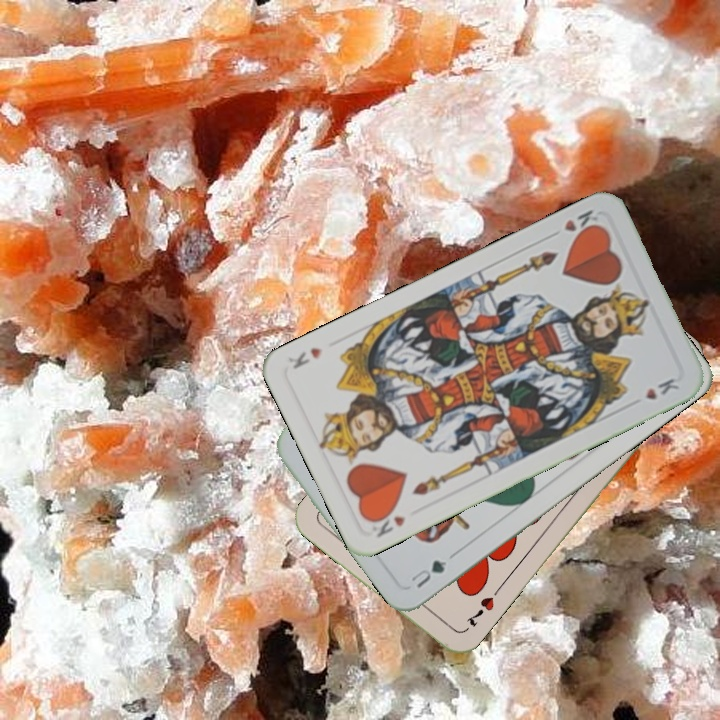GU: (407, 555, 450, 591)
H7: (462, 592, 497, 630)
HK: (559, 205, 605, 241), (365, 505, 409, 540)
